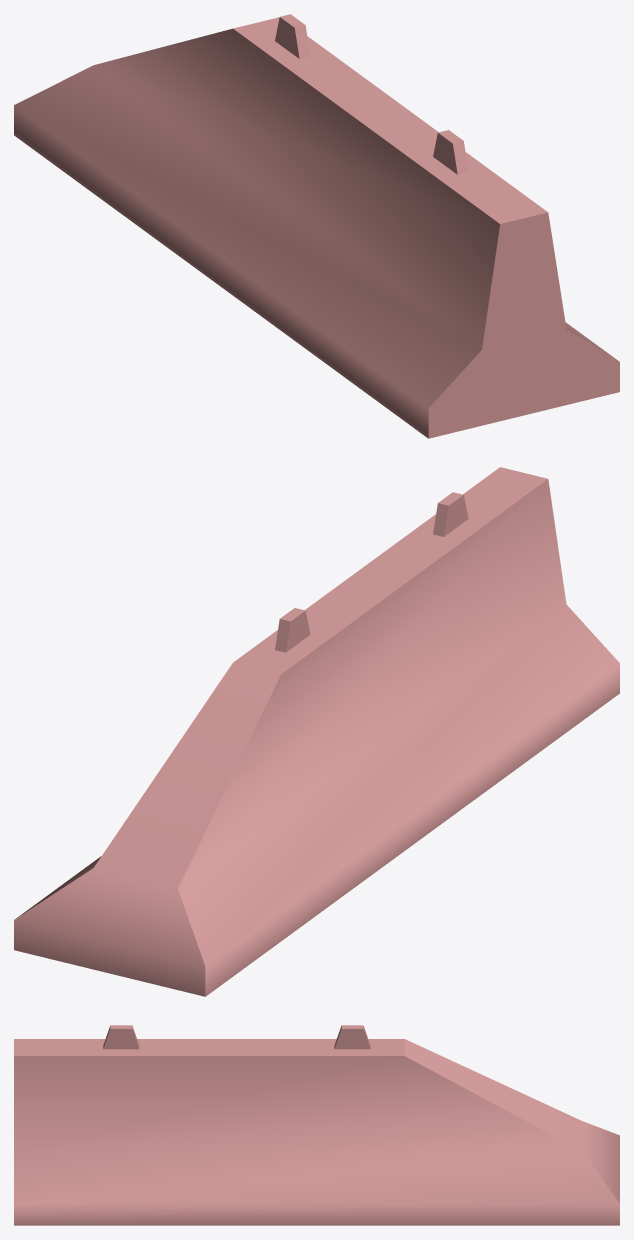
Rendered from ConcreteBarrier_A_B_COL.fbx.
The picture shows the model from 3 angles, top to bottom: view 1: azimuth 30°, elevation 25°; view 2: azimuth 150°, elevation 25°; view 3: azimuth 270°, elevation 25°; orthographic projection. The views are drawn at different scales.
Visible parts, largest first — view 1: ConcreteBarrier_A_B_COL; view 2: ConcreteBarrier_A_B_COL; view 3: ConcreteBarrier_A_B_COL.
Part boxes in pixels (x1=…): ConcreteBarrier_A_B_COL: x1=14, y1=14, x2=619, y2=438; ConcreteBarrier_A_B_COL: x1=14, y1=467, x2=619, y2=996; ConcreteBarrier_A_B_COL: x1=14, y1=1025, x2=619, y2=1225.
Size of the model in its own units: 80 by 89.8 by 300.
